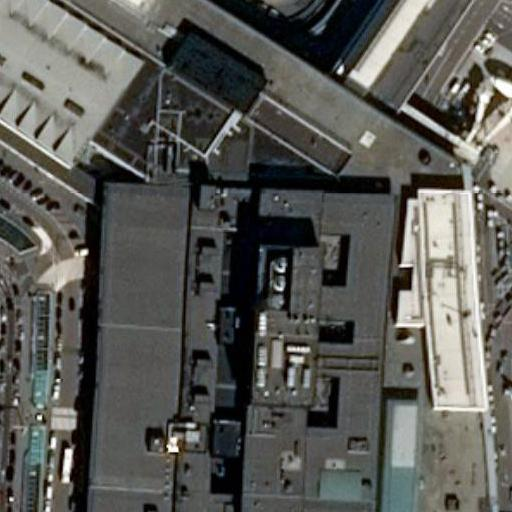Aircraft: (472, 44, 512, 187), (502, 323, 512, 505)
